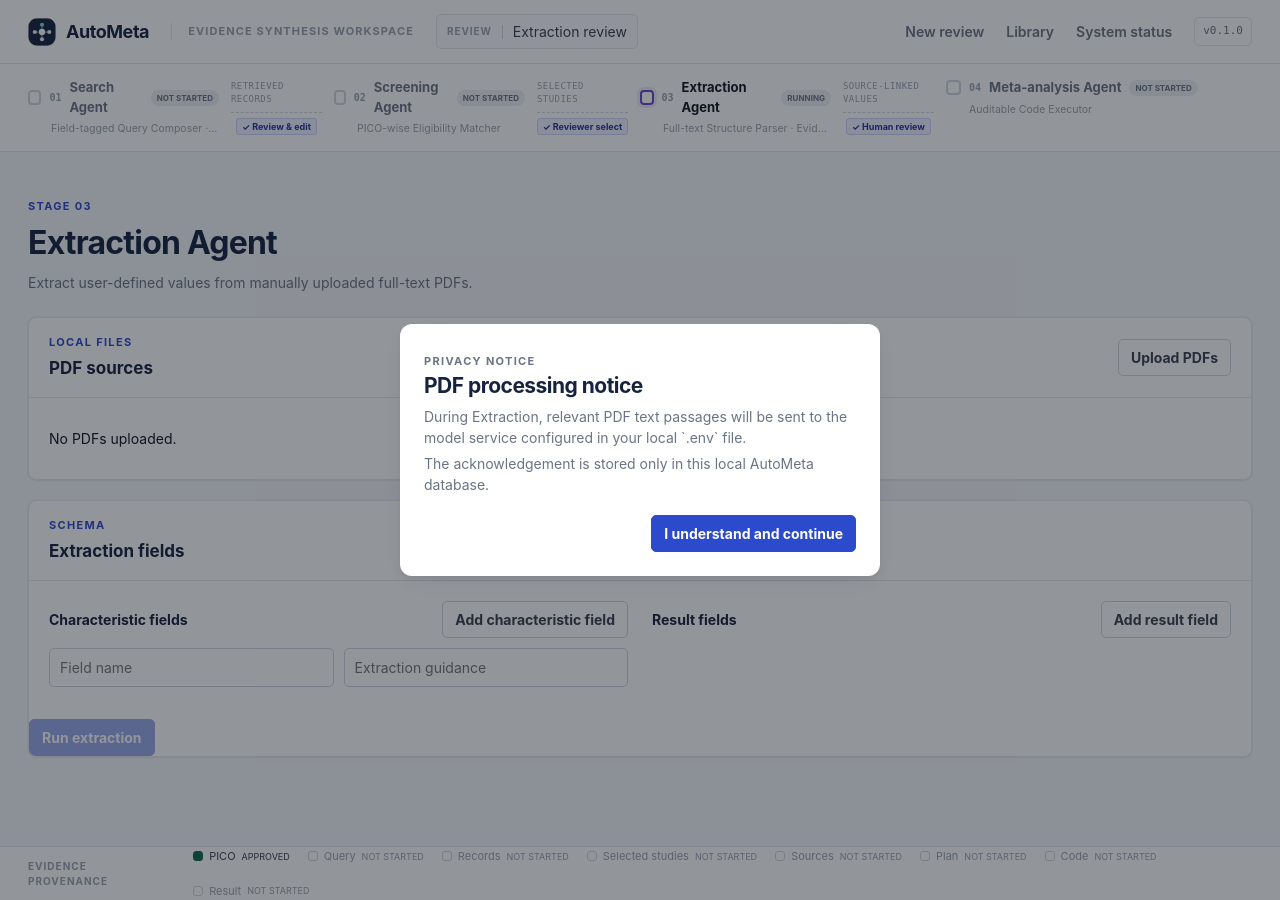
Scenario: ExtractionPage › requires an explicit first-run PDF model disclosure acknowledgement
Expected: the dialog "PDF processing notice" shows "relevant PDF text passages will be sent", [424,408,847,446]
Click the button "I understand and continue".
click(754, 534)  # box [651,515,856,552]
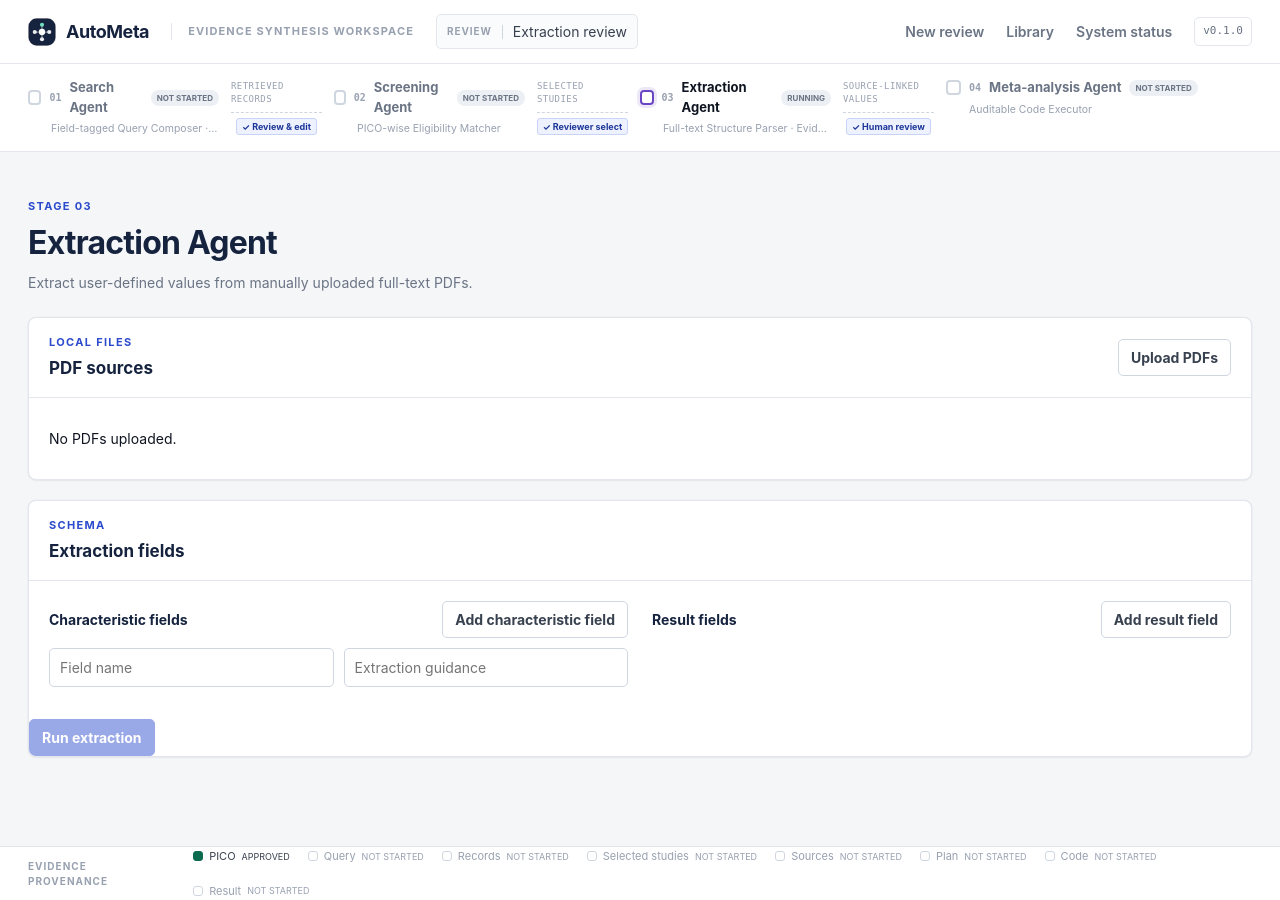
Expected: the dialog is gone
